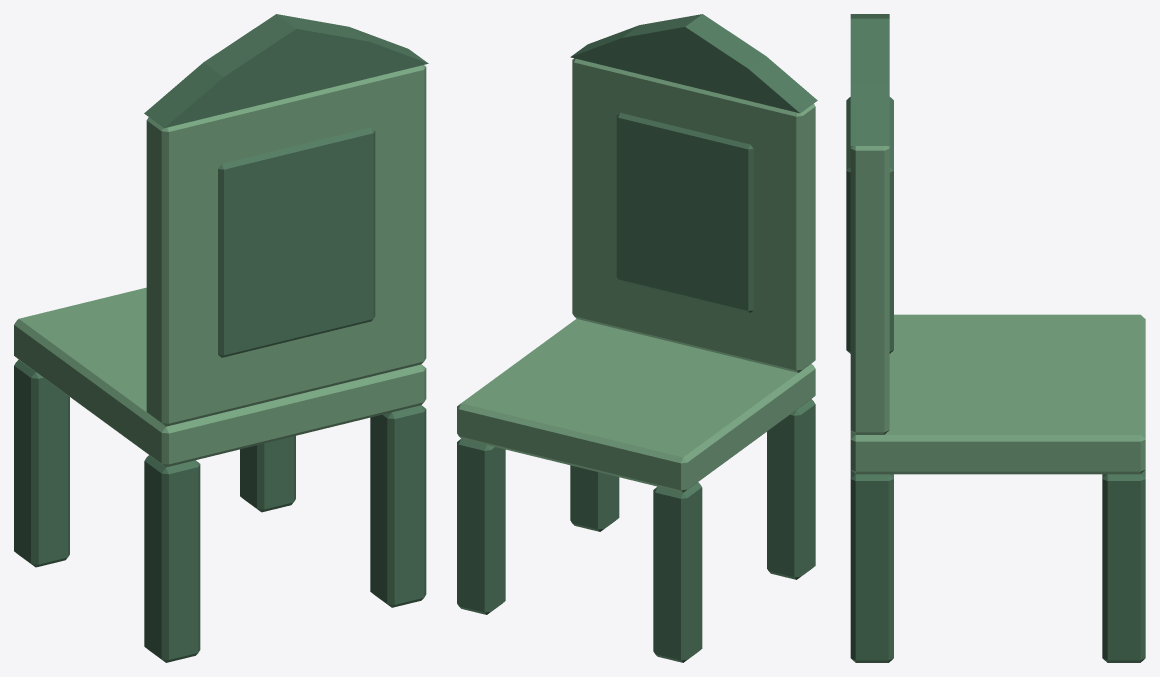
File: green_dungeon_chair_v0.glb
3 renders of one model, left to right at view 1: azimuth 30°, elevation 25°; view 2: azimuth 150°, elevation 25°; view 3: azimuth 270°, elevation 25°, orthographic. The views are drawn at different scales.
Visible parts, largest first — view 1: green_dungeon_chair_v0; view 2: green_dungeon_chair_v0; view 3: green_dungeon_chair_v0.
Boxes of the visible parts, left/top/right/bottom form: green_dungeon_chair_v0: left=14, top=14, right=428, bottom=662; green_dungeon_chair_v0: left=457, top=14, right=817, bottom=662; green_dungeon_chair_v0: left=846, top=14, right=1145, bottom=662.
Bounding box in the file's own units: 0.68 × 1.49 × 0.69.
